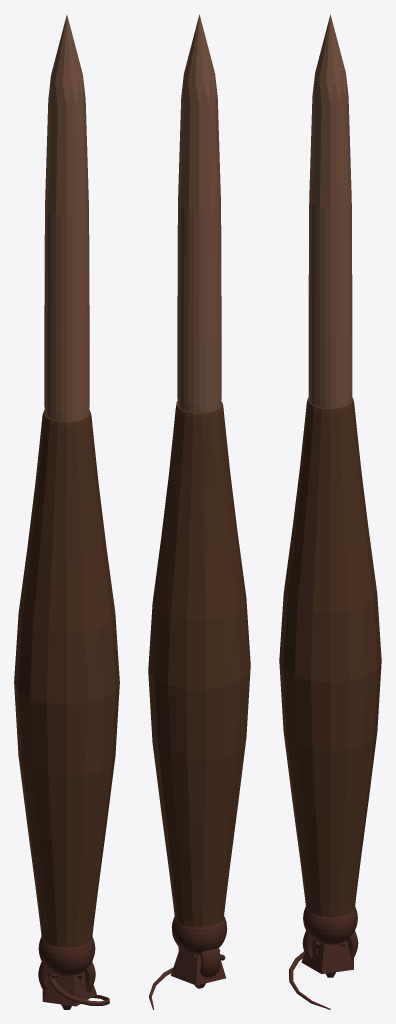
Rendered from Wand 105.glb.
3 views of the same model, side by side, from view 1: azimuth 90°, elevation 25°; view 2: azimuth 210°, elevation 25°; view 3: azimuth 270°, elevation 25° (orthographic). The views are drawn at different scales.
Parts seen in each view (by area): view 1: GeneratedWand, Pommel_4, Pommel_9, Pommel_2, Pommel_10; view 2: GeneratedWand, Pommel_4, Pommel_9, Pommel_2; view 3: GeneratedWand, Pommel_4, Pommel_9, Pommel_2, Pommel_10.
Boxes of the visible parts, x1=… form: GeneratedWand: x1=14, y1=15, x2=119, y2=979; Pommel_4: x1=38, y1=936, x2=95, y2=975; Pommel_9: x1=42, y1=971, x2=96, y2=1006; Pommel_2: x1=38, y1=962, x2=95, y2=992; Pommel_10: x1=48, y1=971, x2=109, y2=1005; GeneratedWand: x1=148, y1=14, x2=250, y2=959; Pommel_4: x1=171, y1=916, x2=227, y2=954; Pommel_9: x1=171, y1=948, x2=225, y2=985; Pommel_2: x1=178, y1=946, x2=220, y2=977; GeneratedWand: x1=279, y1=14, x2=381, y2=948; Pommel_4: x1=303, y1=906, x2=357, y2=944; Pommel_9: x1=301, y1=940, x2=353, y2=973; Pommel_2: x1=302, y1=931, x2=358, y2=960; Pommel_10: x1=289, y1=951, x2=330, y2=1009.
Size of the model in its own units: 0.0507 by 0.5231 by 0.0499.
